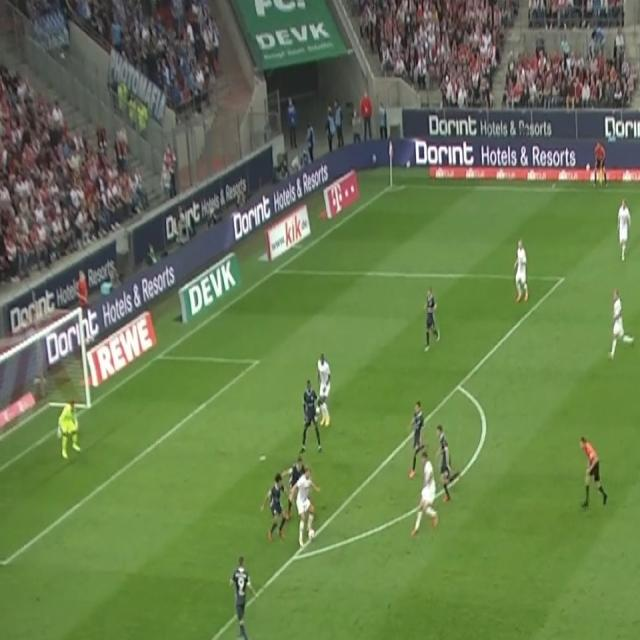ball: (308, 527, 316, 541)
